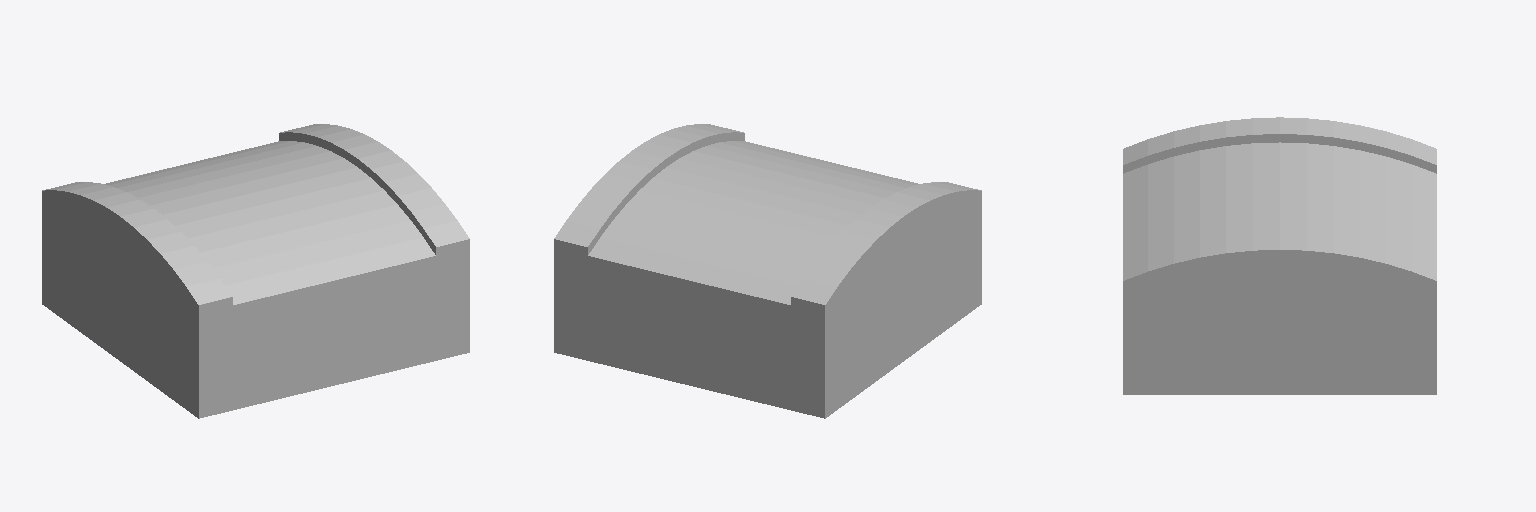
The model's file is tile_083.obj.
3 views of the same model, side by side, from view 1: azimuth 30°, elevation 25°; view 2: azimuth 150°, elevation 25°; view 3: azimuth 270°, elevation 25° (orthographic).
Parts seen in each view (by area): view 1: tile_083; view 2: tile_083; view 3: tile_083.
Part boxes in pixels (left/top/right/bottom): tile_083: left=42, top=124, right=469, bottom=418; tile_083: left=554, top=124, right=981, bottom=418; tile_083: left=1123, top=117, right=1436, bottom=394.
Size of the model in its own units: 1 by 0.51 by 1.